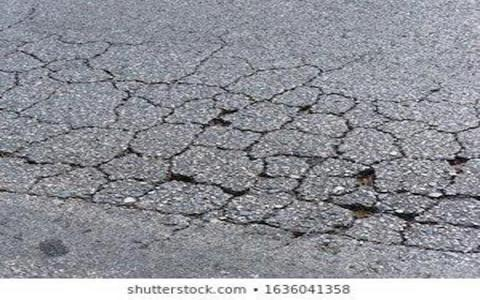patchy roads: (1, 31, 431, 252)
